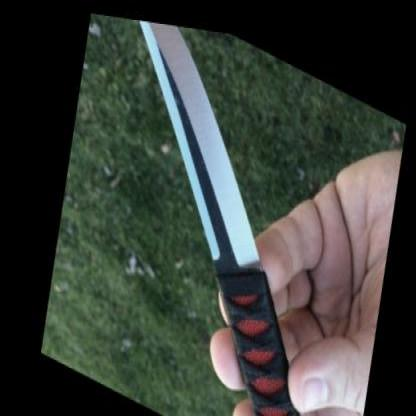knife: (20, 1, 402, 412)
